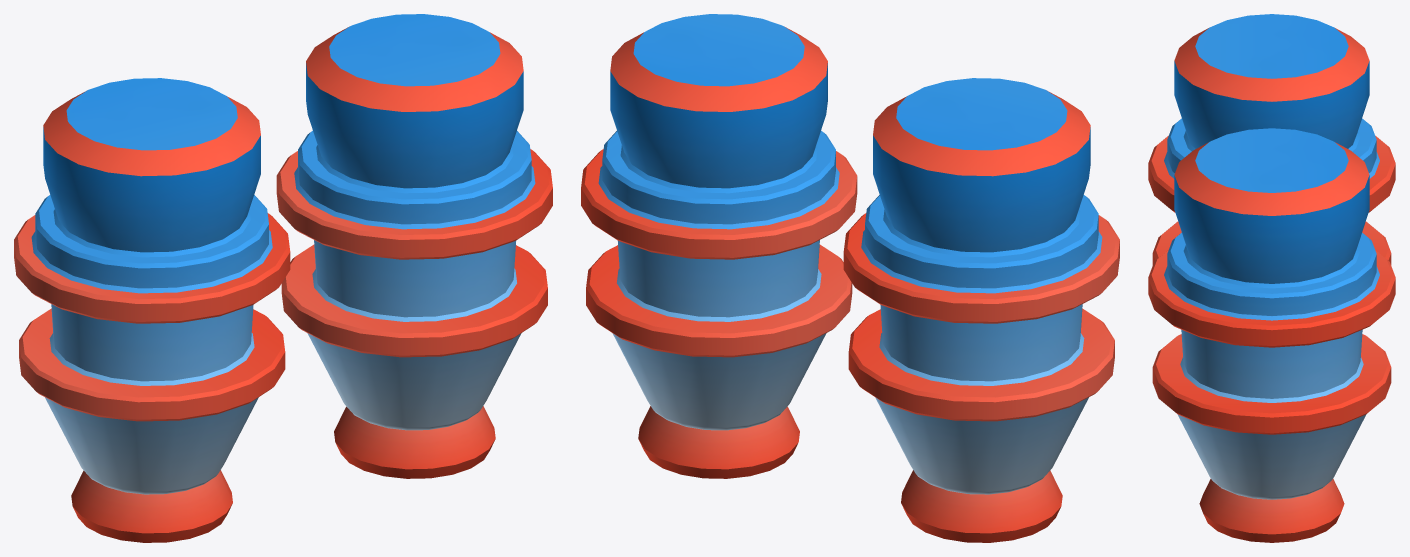
File: Jet_V3.fbx
The picture shows the model from 3 angles, left to right: view 1: azimuth 30°, elevation 25°; view 2: azimuth 150°, elevation 25°; view 3: azimuth 270°, elevation 25°; orthographic projection. The views are drawn at different scales.
Parts seen in each view (by area): view 1: Jet_V3_L, Jet_V3_R; view 2: Jet_V3_L, Jet_V3_R; view 3: Jet_V3_R, Jet_V3_L.
Boxes of the visible parts, x1,y1,x2,y2 form: Jet_V3_L: (14,78,290,542); Jet_V3_R: (276,14,552,478); Jet_V3_L: (843,78,1119,542); Jet_V3_R: (581,14,857,478); Jet_V3_R: (1148,128,1395,542); Jet_V3_L: (1148,14,1395,264).
Size of the model in its own units: 123 by 92.82 by 58.89.
